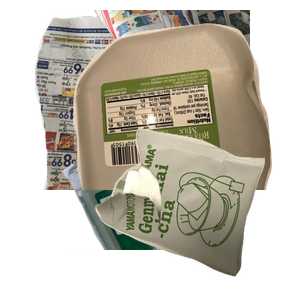glass: (60, 120, 300, 300)
paper: (32, 10, 272, 190)
plastic: (71, 21, 300, 201)
trash: (93, 126, 300, 300)
